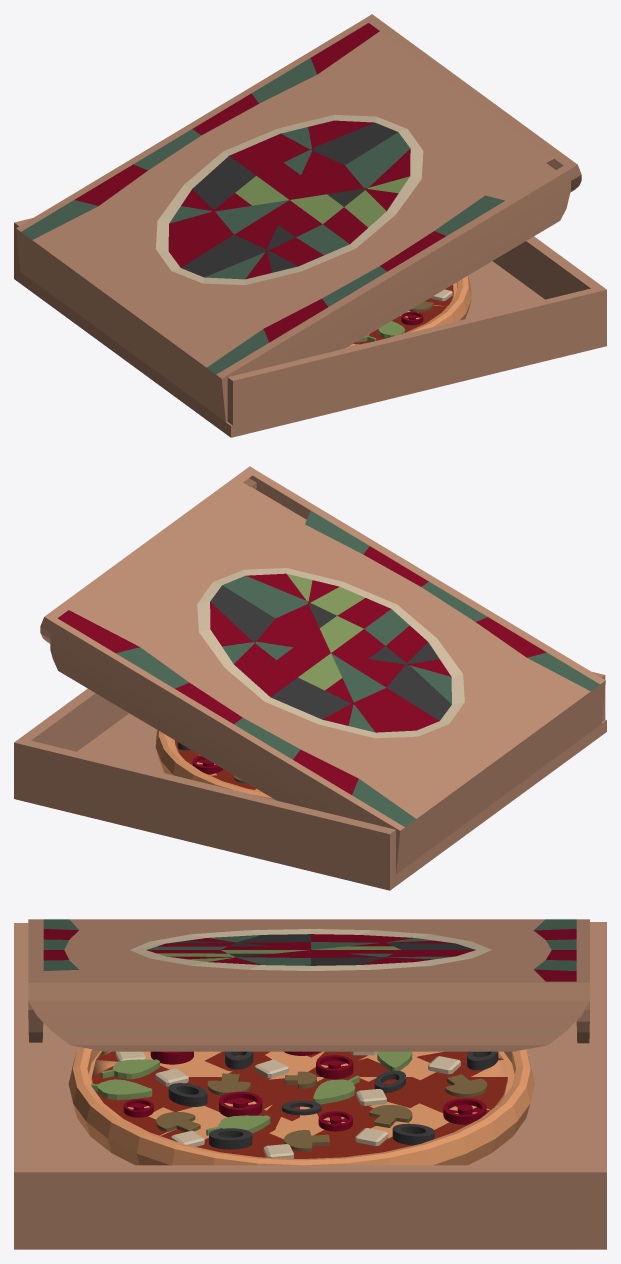
Rendered from pizzabox_2_partyassets.fbx.
3 renders of one model, top to bottom at view 1: azimuth 30°, elevation 25°; view 2: azimuth 150°, elevation 25°; view 3: azimuth 270°, elevation 25°, orthographic. The views are drawn at different scales.
Visible parts, largest first — view 1: pizzabox_2_partyassets, Cube.012, Cube.014, Cube.013, Cube.011, Cube.015, Cube.017, Cube.018; view 2: pizzabox_2_partyassets, Cube.012, Cube.014, Cube.013, Cube.011, Cube.015, Cube.017; view 3: pizzabox_2_partyassets, Cube.017, Cube.018, Cube.012, Cube.011, Cube.013, Cube.015, Cube.037, Cube.014.
Boxes of the visible parts, x1,y1,x2,y2 form: pizzabox_2_partyassets: (14,14,606,437); Cube.012: (74,23,446,342); Cube.014: (21,58,504,374); Cube.013: (181,122,397,277); Cube.011: (155,115,452,301); Cube.015: (235,176,409,342); Cube.017: (346,276,471,348); Cube.018: (353,284,453,344); pizzabox_2_partyassets: (14,466,606,890); Cube.012: (57,546,546,794); Cube.014: (116,511,599,826); Cube.013: (178,585,451,750); Cube.011: (197,568,464,738); Cube.015: (287,574,365,690); Cube.017: (155,730,275,800); pizzabox_2_partyassets: (14,919,606,1249); Cube.017: (68,1047,534,1165); Cube.018: (92,1051,507,1158); Cube.012: (43,929,576,1131); Cube.011: (115,929,491,1158); Cube.013: (166,934,498,1149); Cube.015: (91,946,412,1135); Cube.037: (156,1071,487,1151); Cube.014: (43,919,576,970).
Size of the model in its own units: 47.97 by 21.47 by 46.01.
